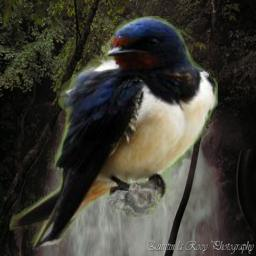Swallow: (9, 16, 218, 251)
